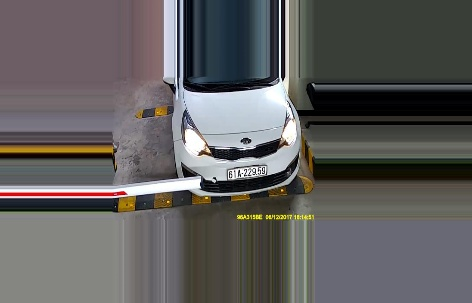plate: (223, 166, 267, 178)
